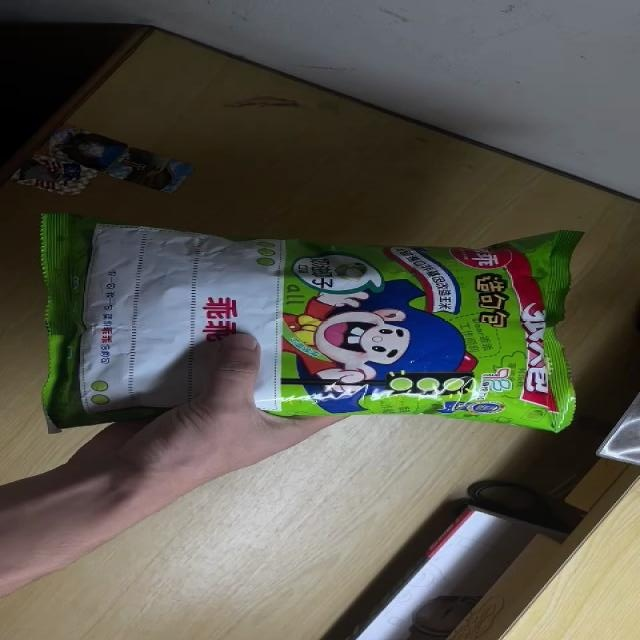Good-Luck: (41, 212, 589, 435)
